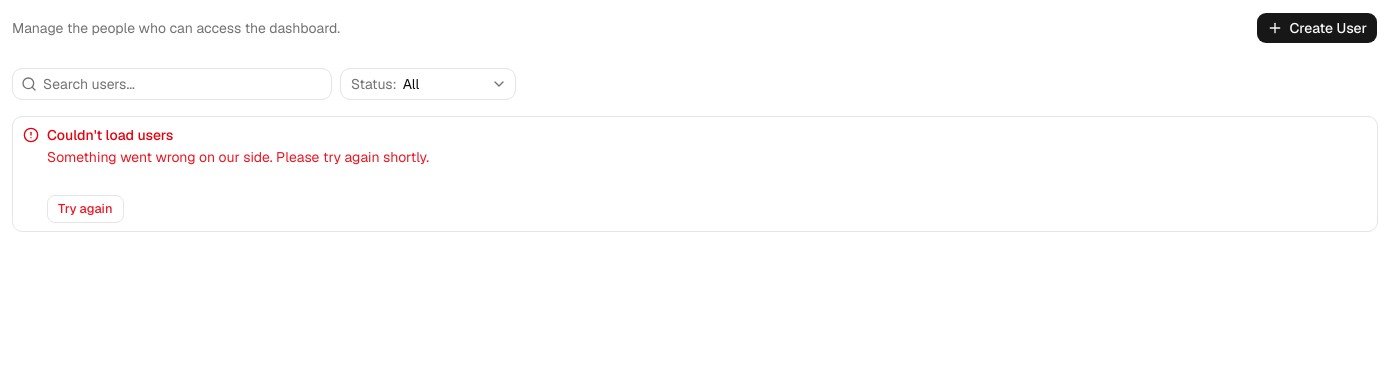
Test: UsersList loading › explains a failed load and retries on request
Expected: the message shows "Couldn't load users", [12,116,1378,232]
Expected: the message does not show "internal detail", [12,116,1378,232]
Click the button "Try again" at (85, 209), box [47,195,124,223]
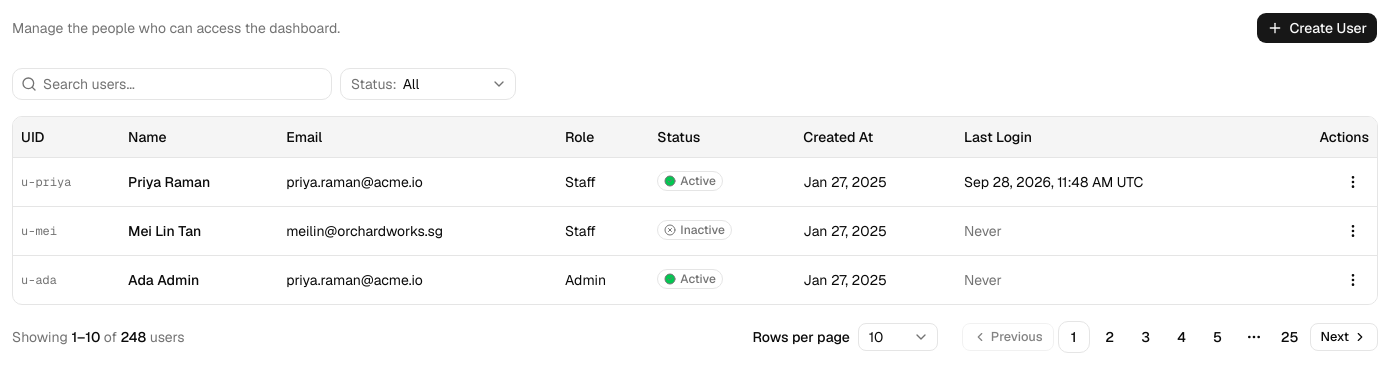
Result: the text "Priya Raman" is shown at [128,172,210,190]
